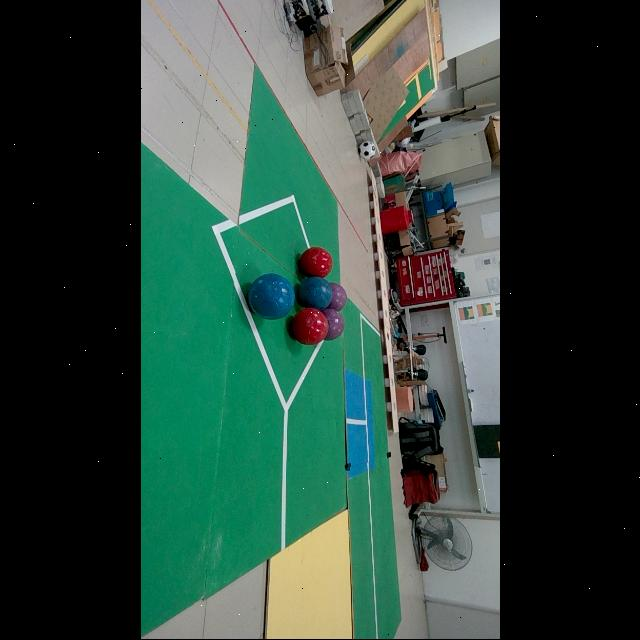B: (247, 274, 295, 320), (296, 277, 332, 310)
P: (322, 309, 345, 341), (327, 283, 346, 311)
R: (290, 309, 328, 345), (299, 247, 333, 278)
